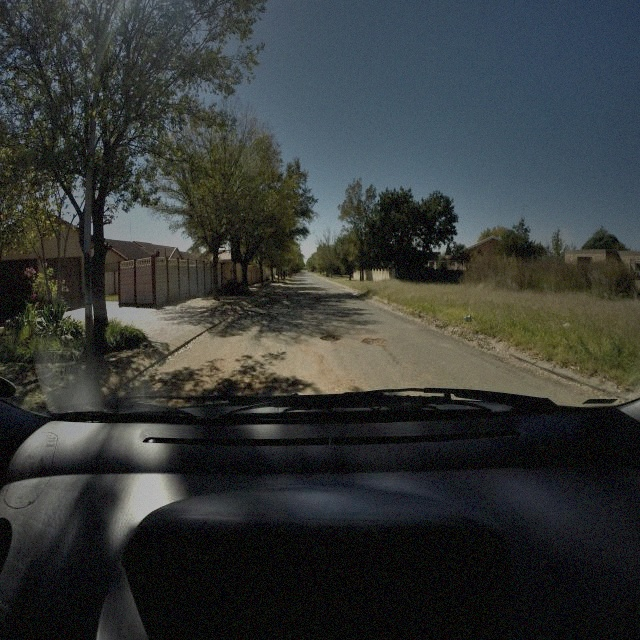pothole: (320, 331, 342, 345), (361, 337, 388, 348)
